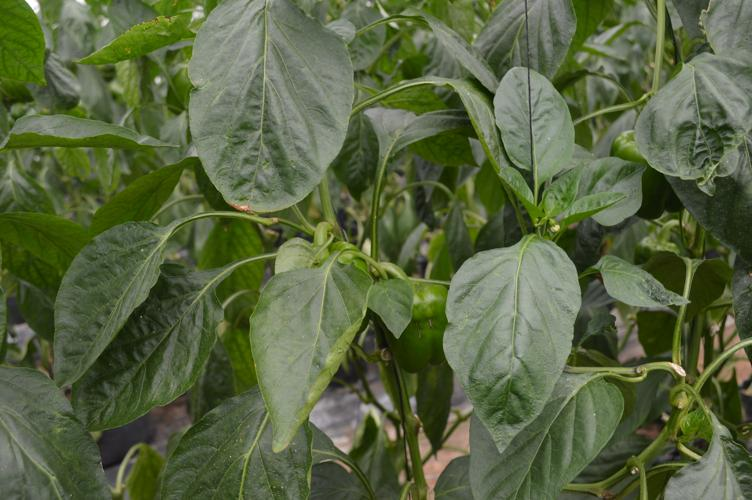BellPepper: (373, 266, 464, 382)
